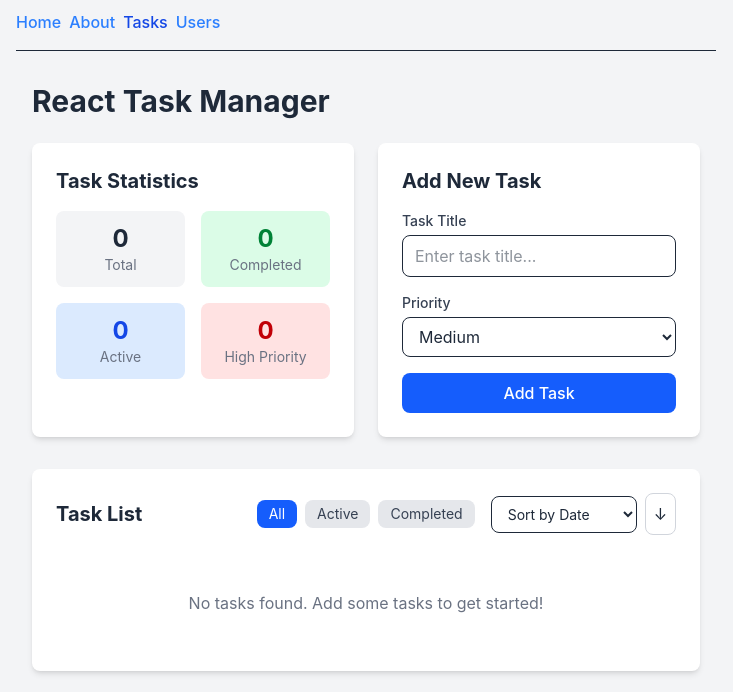
Test case: TaskPage › タスク追加機能 › 優先度を指定してタスクを追加できる
The width and height of the screenshot is (733, 692).
In the field labelled "Task Title": (539, 256) x1=402 y1=235 x2=676 y2=277, type "重要なタスク"
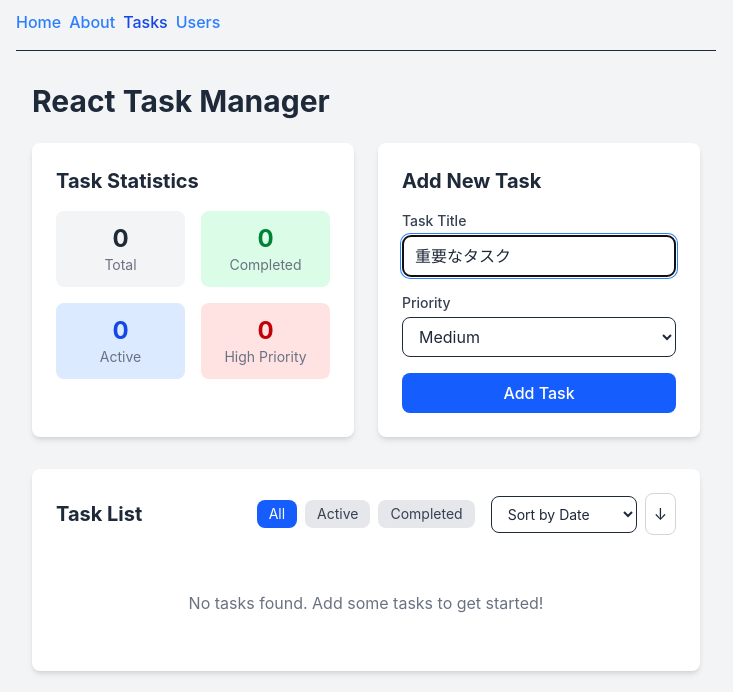
Select "High" in the dropdown labelled "Priority": (539, 337) x1=402 y1=317 x2=676 y2=357
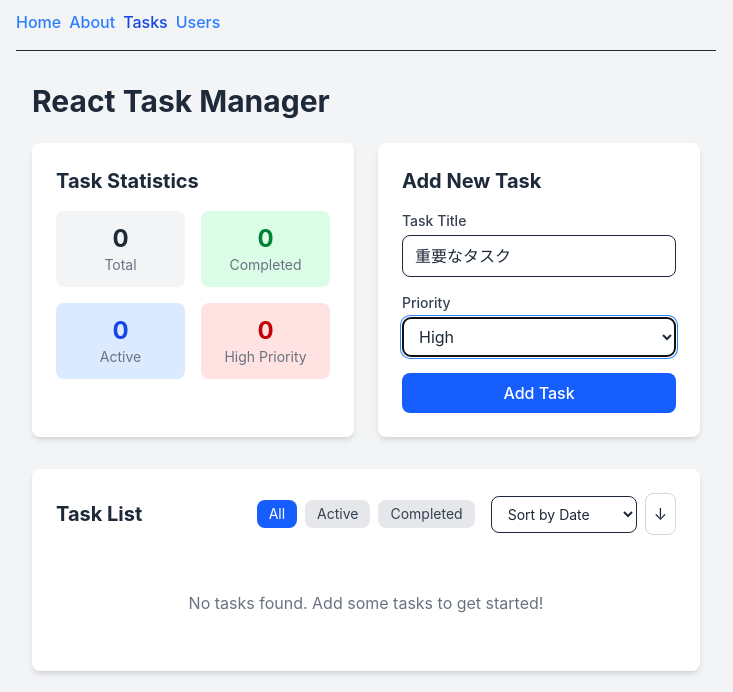
Click the button "Add Task": (539, 393) x1=402 y1=373 x2=676 y2=413
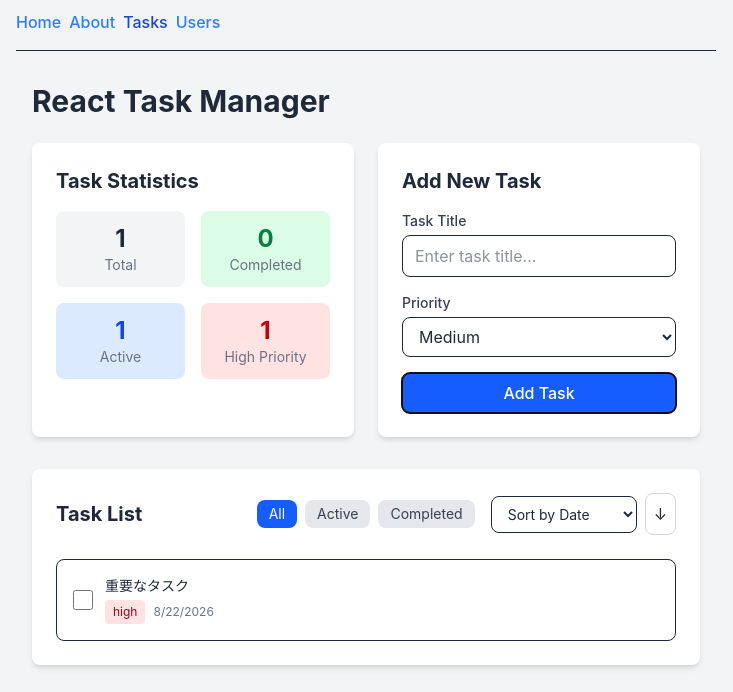
Now the text "重要なタスク" is shown, box x1=105 y1=577 x2=189 y2=594
Now the text "high" is shown, box x1=105 y1=600 x2=146 y2=624
